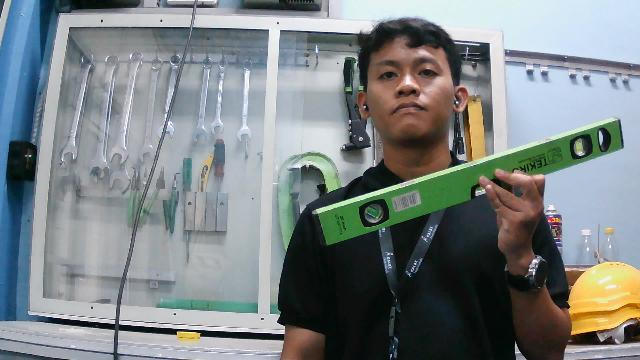water_pass: (307, 117, 627, 249)
